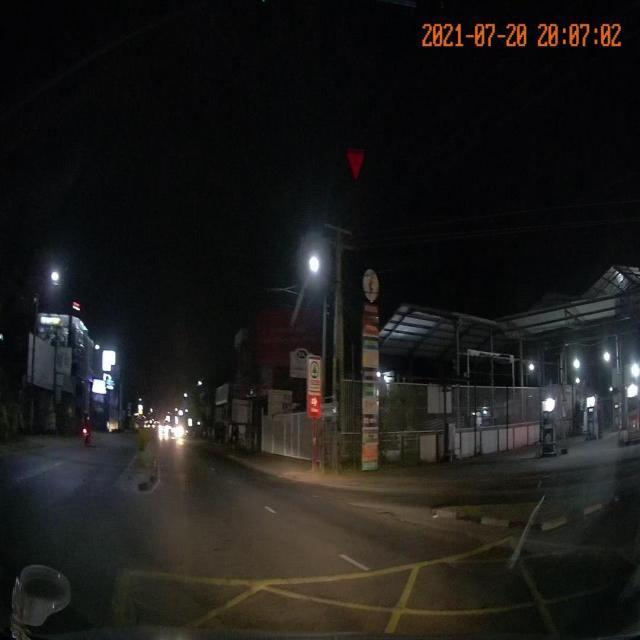Jeltaya razmetka: (75, 532, 638, 637)
